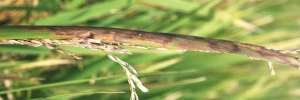RiceSheathBrownRot: (1, 25, 300, 67)
